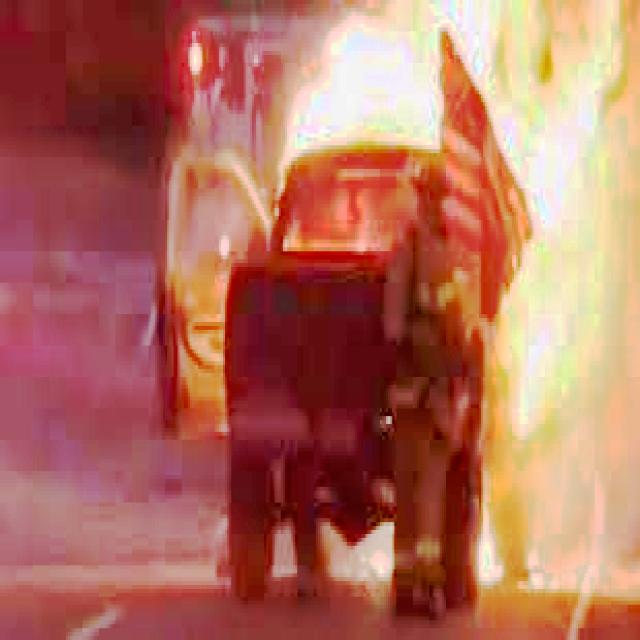api: (488, 13, 635, 449), (265, 1, 473, 248), (327, 500, 404, 590), (464, 500, 532, 590)
